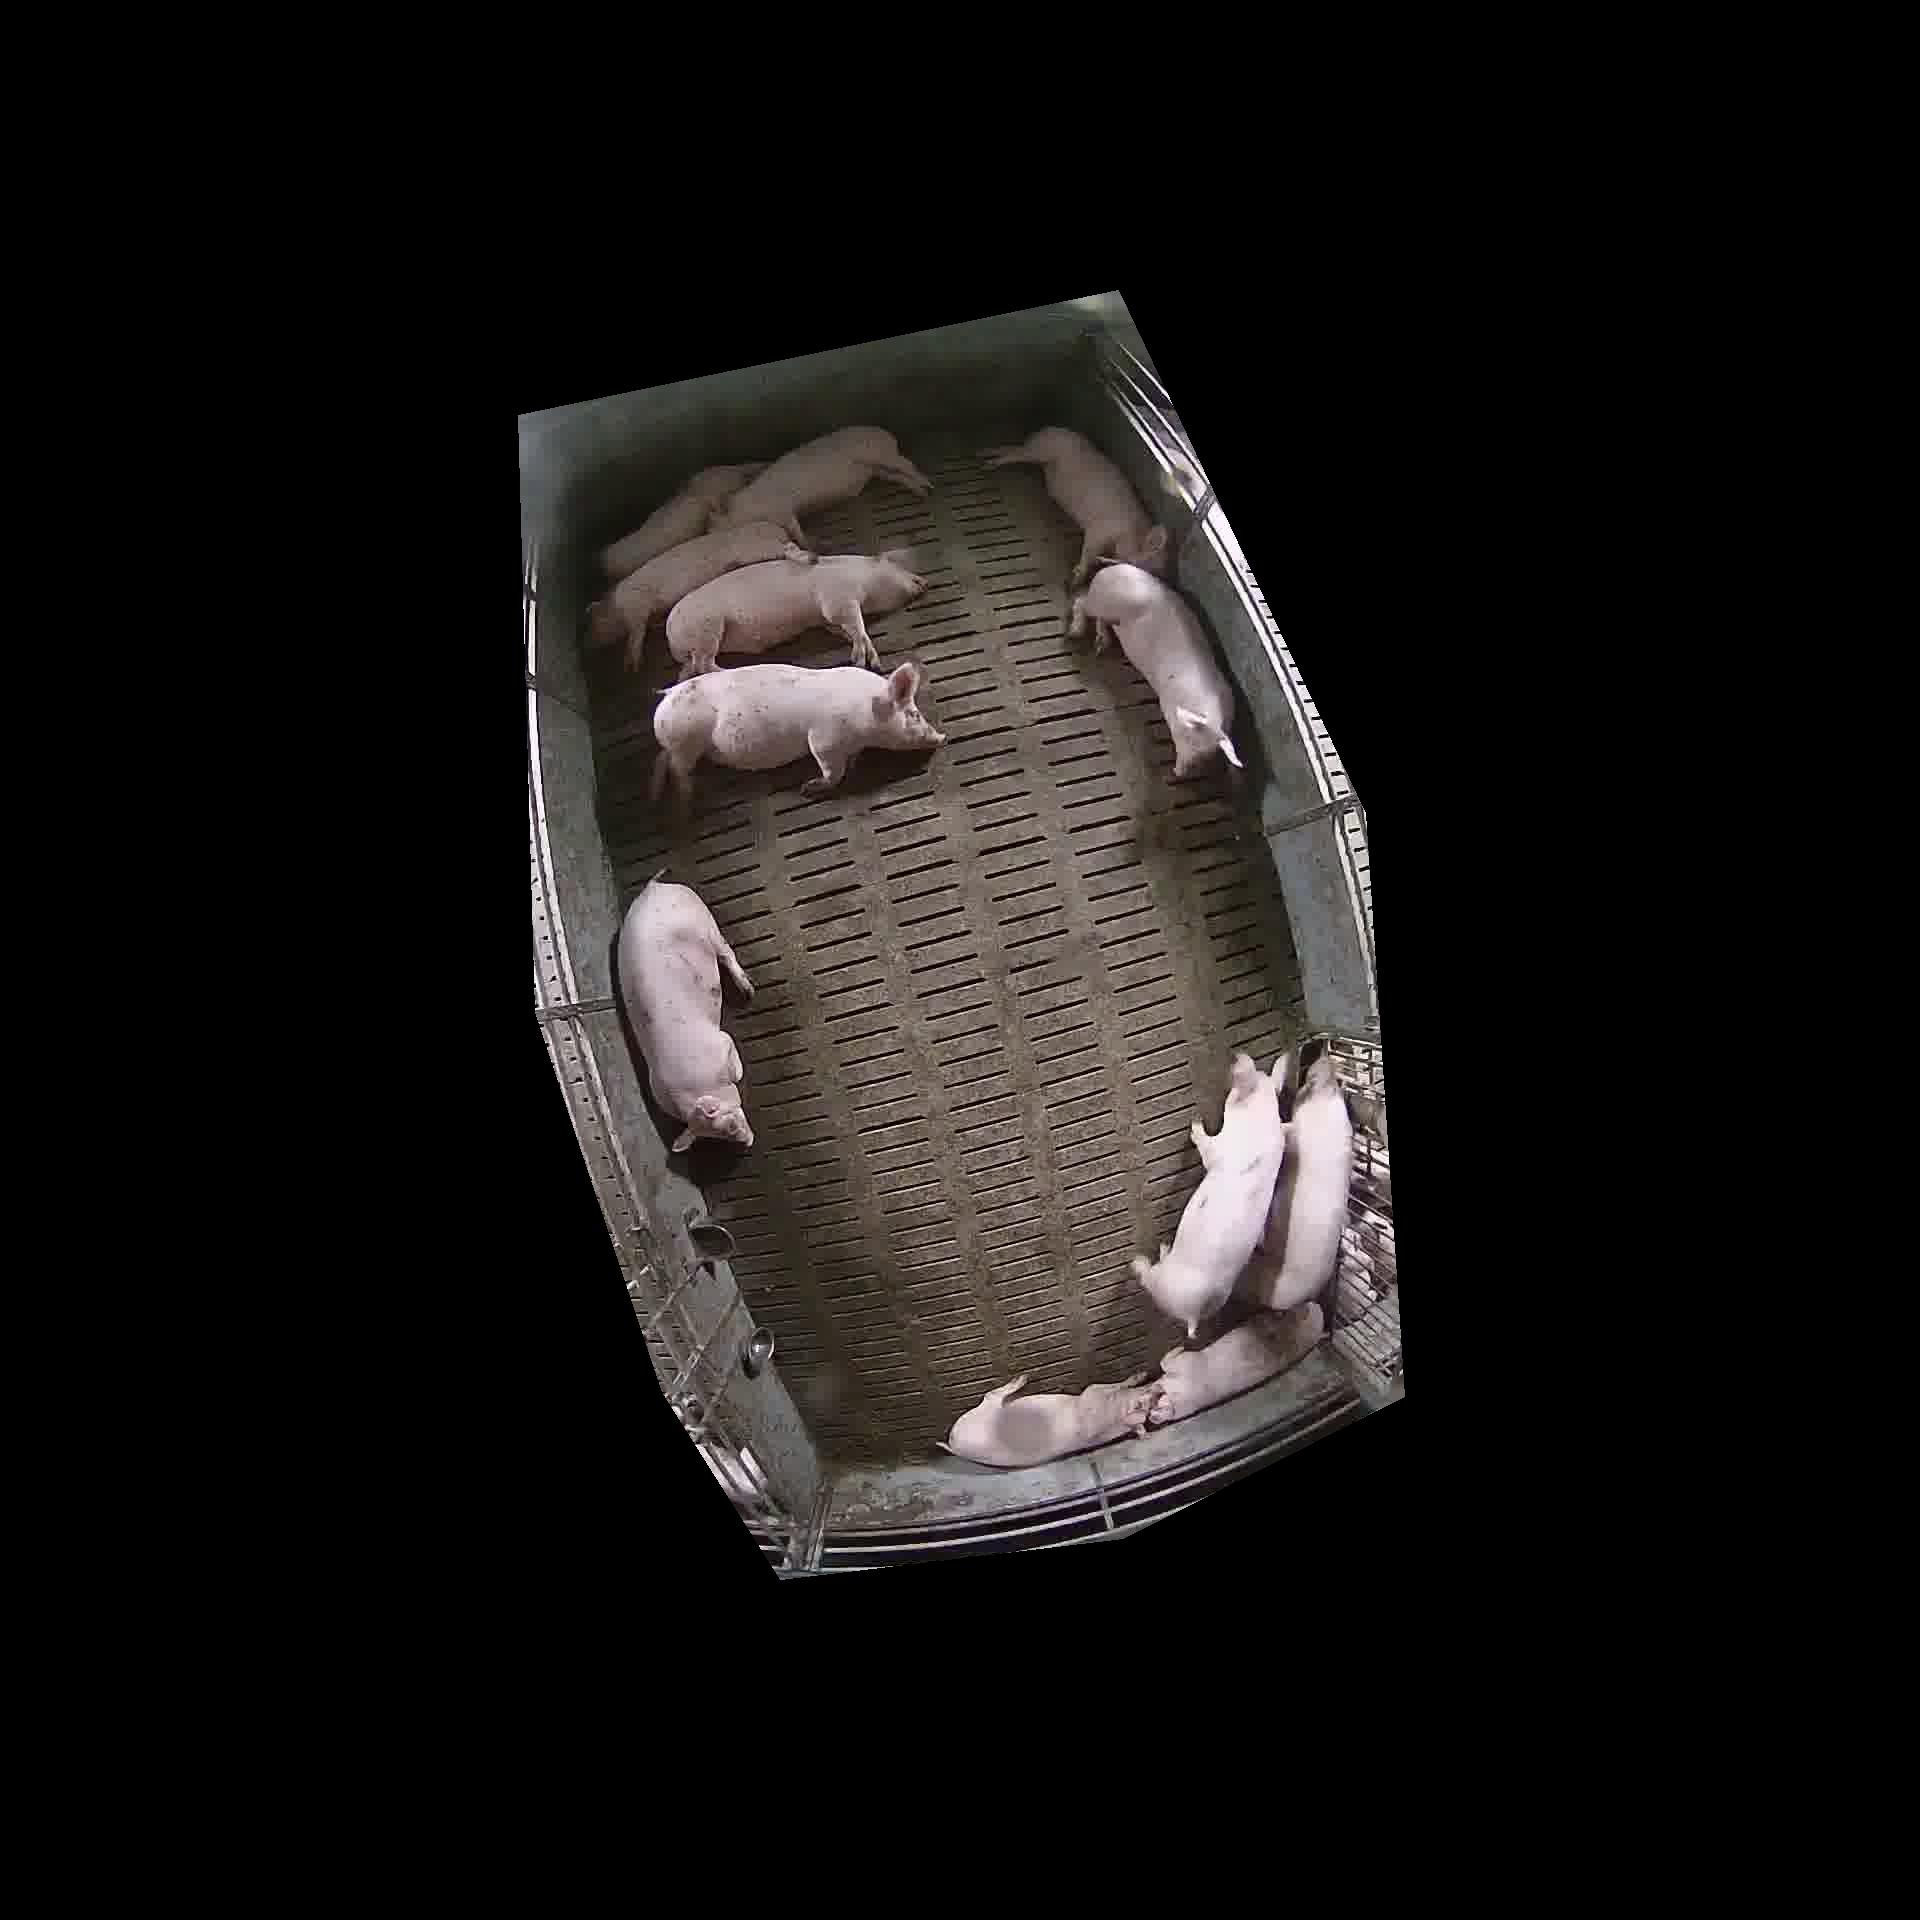pig: (1132, 1053, 1285, 1335), (651, 663, 944, 804), (617, 879, 753, 1150), (1071, 563, 1240, 777), (666, 550, 927, 677), (589, 520, 809, 668), (985, 427, 1167, 585), (1250, 1055, 1352, 1310), (714, 425, 930, 543), (1148, 1303, 1322, 1424), (596, 462, 763, 578), (948, 1377, 1153, 1466)
